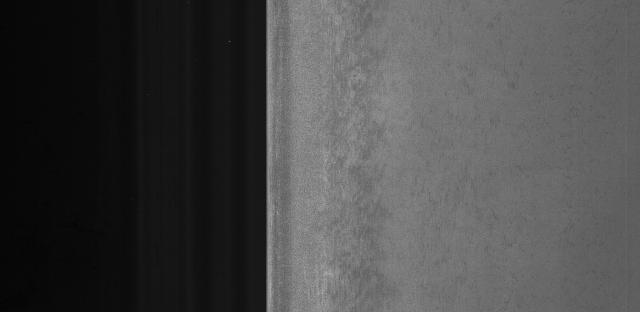silk_spot: (317, 23, 396, 297)
